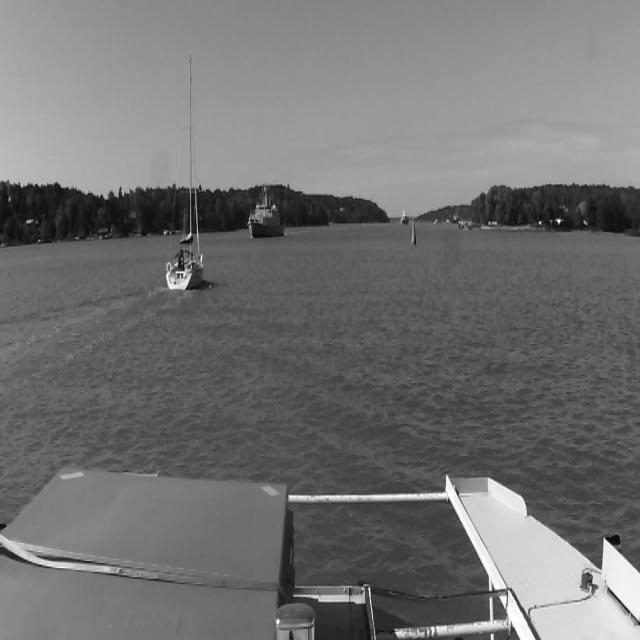buoy: (411, 217, 417, 245)
ship: (166, 57, 204, 291), (248, 184, 284, 239), (400, 208, 409, 226)
